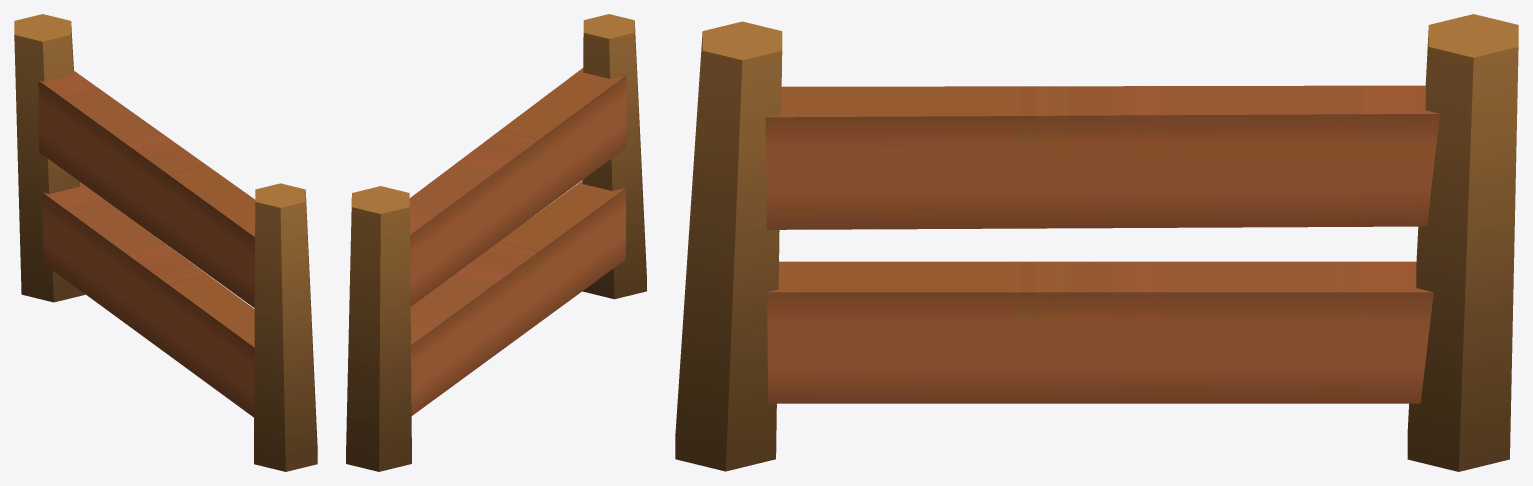
Rendered from Fence_01.fbx.
The picture shows the model from 3 angles, left to right: view 1: azimuth 30°, elevation 25°; view 2: azimuth 150°, elevation 25°; view 3: azimuth 270°, elevation 25°; orthographic projection. The views are drawn at different scales.
Parts seen in each view (by area): view 1: pCube34; view 2: pCube34; view 3: pCube34.
Boxes of the visible parts, bbox=[...] form: pCube34: bbox=[14, 14, 317, 471]; pCube34: bbox=[346, 14, 646, 471]; pCube34: bbox=[675, 14, 1518, 471].
Bounding box in the file's own units: 0.1876 × 0.6848 × 1.29.
